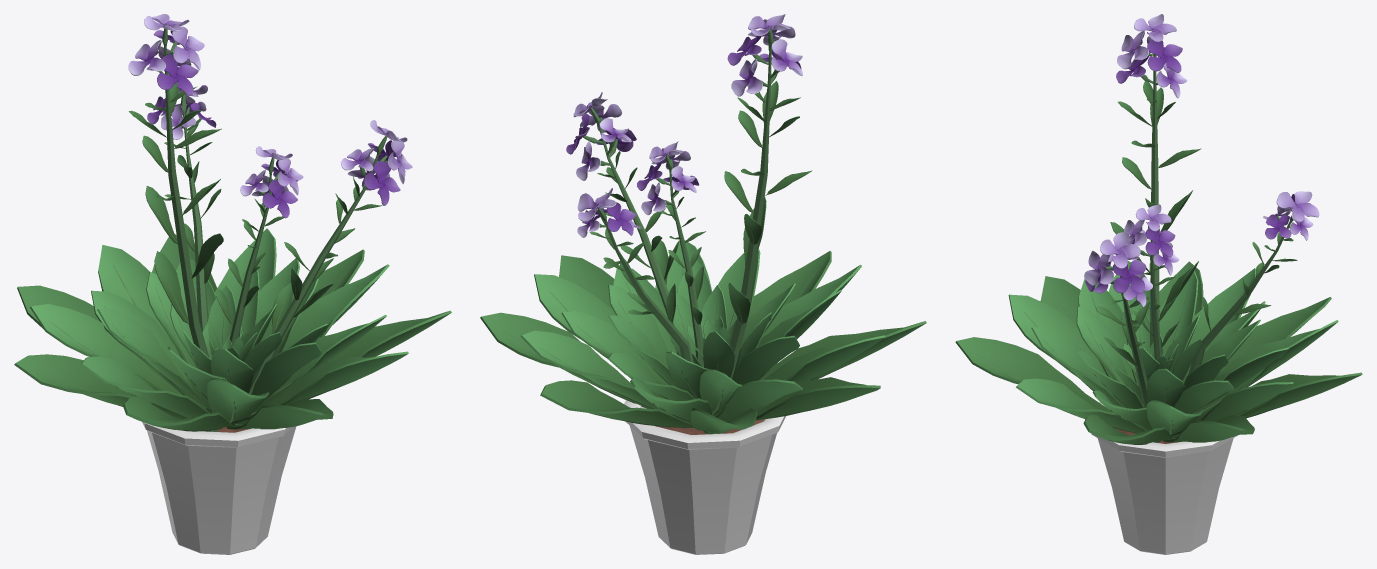
File: plant7.gltf
The picture shows the model from 3 angles, left to right: view 1: azimuth 30°, elevation 25°; view 2: azimuth 150°, elevation 25°; view 3: azimuth 270°, elevation 25°; orthographic projection. The views are drawn at different scales.
Parts seen in each view (by area): view 1: FLowerLeafs_MadeiraHouse_0, FlowerViolett_MadeiraHouse_0, PotWhite; view 2: FLowerLeafs_MadeiraHouse_0, FlowerViolett_MadeiraHouse_0, PotWhite; view 3: FLowerLeafs_MadeiraHouse_0, FlowerViolett_MadeiraHouse_0, PotWhite.
Part boxes in pixels (x1,y1,x2,y2): FLowerLeafs_MadeiraHouse_0: [14, 228, 451, 431]; FlowerViolett_MadeiraHouse_0: [128, 14, 412, 431]; PotWhite: [142, 422, 296, 554]; FLowerLeafs_MadeiraHouse_0: [480, 240, 926, 433]; FlowerViolett_MadeiraHouse_0: [566, 14, 812, 434]; PotWhite: [624, 400, 785, 554]; FLowerLeafs_MadeiraHouse_0: [955, 261, 1362, 444]; FlowerViolett_MadeiraHouse_0: [1084, 14, 1319, 429]; PotWhite: [1091, 402, 1237, 554].
Bounding box in the file's own units: 198 × 267 × 201.
Materials: 3 (3 with a texture image).
